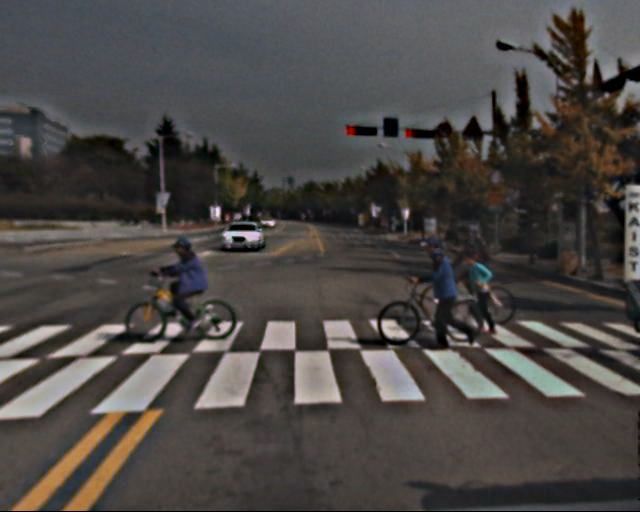person: (419, 237, 468, 353), (446, 227, 489, 331), (167, 236, 209, 336), (462, 253, 497, 335)
